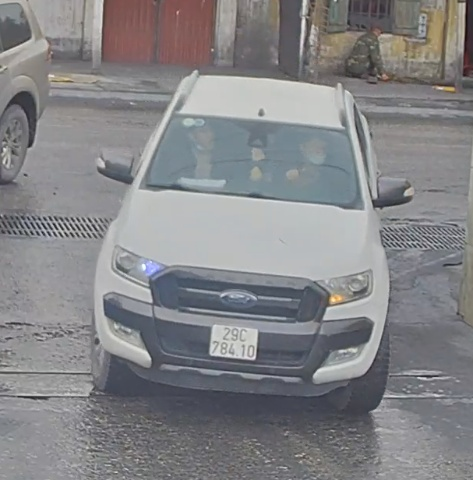vehicle plate: (210, 316, 260, 364)
